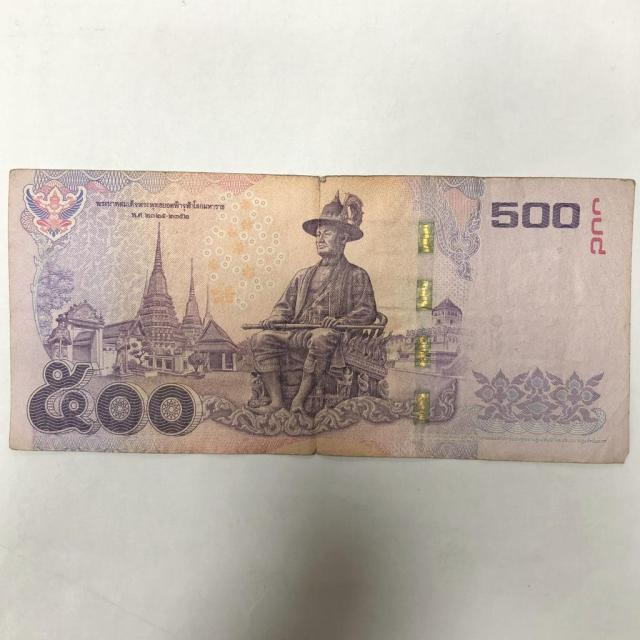THAI500: (8, 169, 635, 463)
